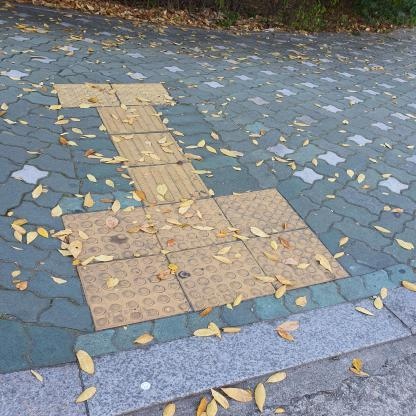podotacti: (44, 77, 356, 338)
